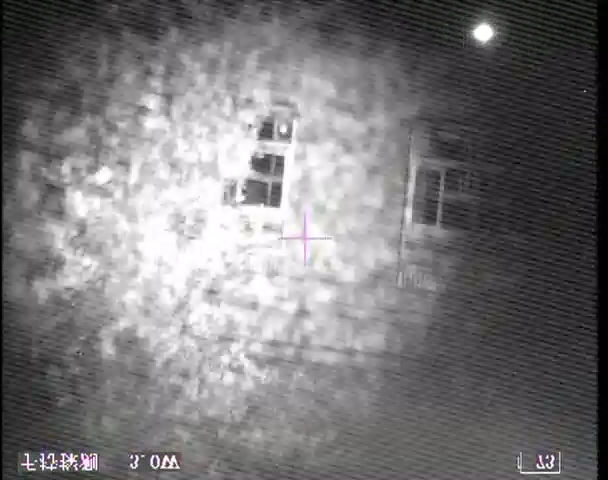my: (278, 123, 288, 136)
